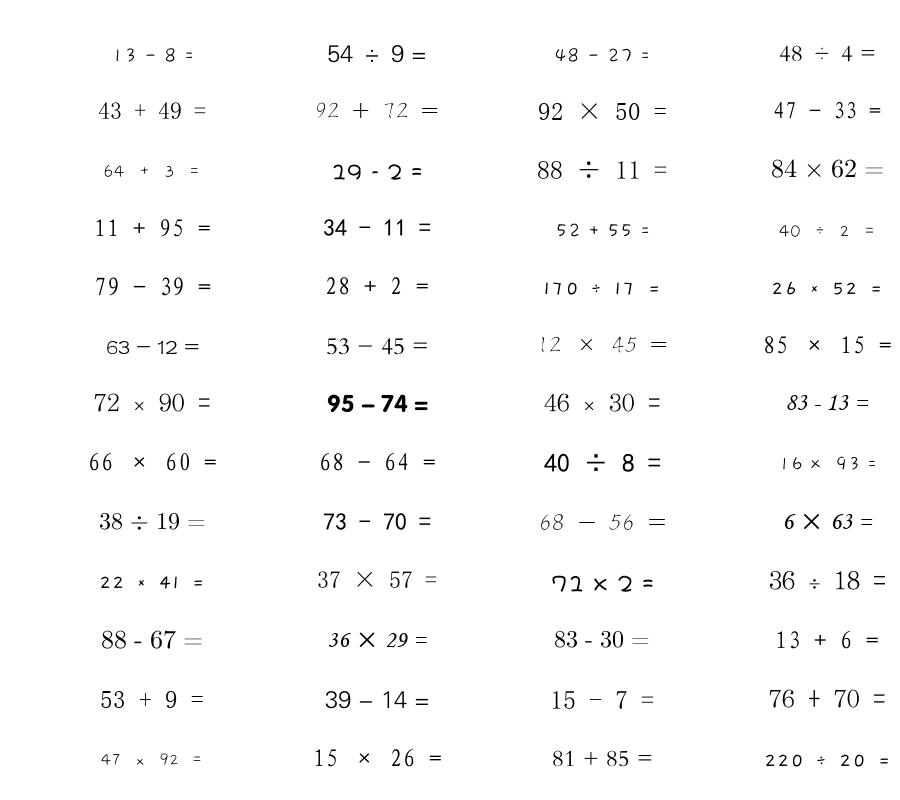MQ: (537, 160, 667, 179), (544, 453, 661, 473), (769, 570, 886, 590), (763, 336, 892, 354), (88, 453, 217, 471), (313, 749, 442, 767), (537, 336, 668, 353), (94, 277, 211, 296), (94, 393, 211, 412), (544, 393, 661, 412), (769, 689, 886, 708), (538, 103, 667, 120), (771, 159, 884, 178), (315, 102, 439, 119), (94, 219, 211, 237), (319, 453, 436, 471), (317, 571, 437, 588), (539, 514, 666, 530), (550, 690, 654, 709), (773, 101, 881, 119), (323, 513, 431, 531), (101, 630, 203, 649), (99, 512, 206, 530), (327, 394, 428, 413), (325, 691, 430, 709), (325, 277, 429, 295), (775, 631, 879, 649), (98, 102, 206, 119), (323, 219, 431, 236), (327, 45, 427, 63), (100, 691, 204, 708), (326, 338, 429, 355), (551, 575, 654, 592), (554, 630, 650, 648), (552, 750, 653, 767), (764, 754, 891, 767), (779, 45, 876, 62), (327, 632, 427, 648), (771, 281, 883, 295), (782, 513, 873, 530), (543, 282, 661, 295), (778, 456, 877, 471), (331, 164, 423, 180), (554, 48, 650, 63), (785, 394, 869, 411), (555, 223, 650, 238), (99, 576, 205, 589), (103, 164, 201, 178), (101, 753, 203, 766), (106, 340, 199, 354), (779, 225, 876, 238), (111, 48, 194, 63)
